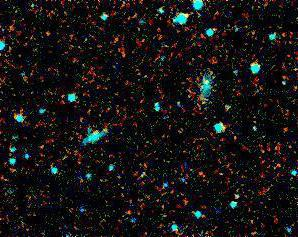star: (193, 85, 223, 115)
